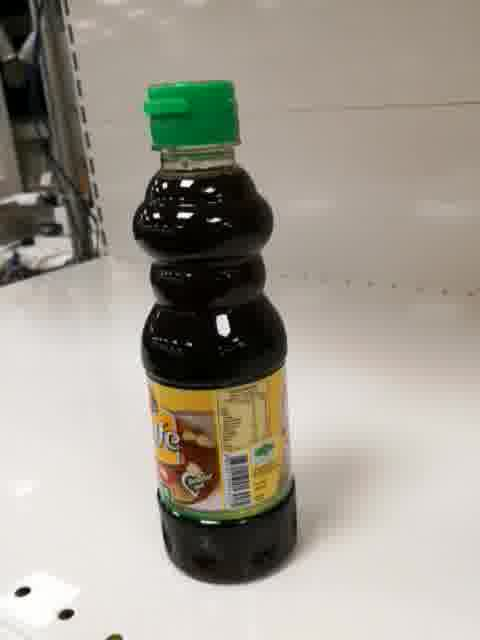cookingoil: (130, 78, 301, 588)
